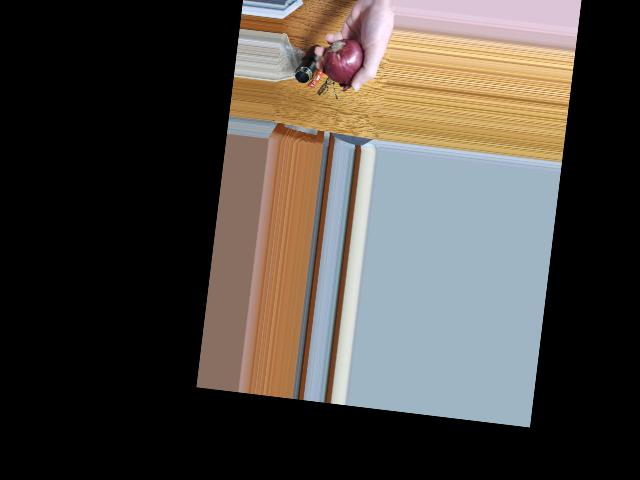onion: (323, 46, 360, 83)
